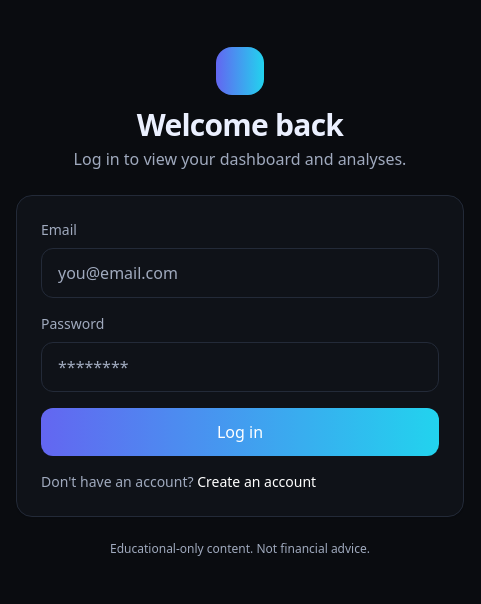
Test: Login page › shows the backend error when login fails
Type "user@example.com" into the field labelled "Email" at [240, 273], box [41,248,439,298]
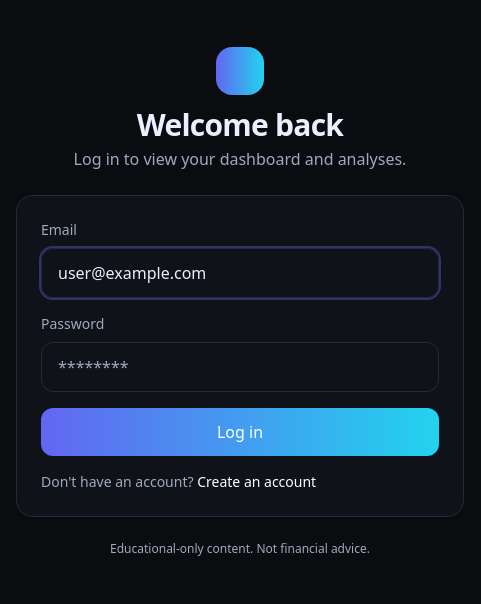
Type "wrong-password" into the password field labelled "Password" at [240, 367], box [41,342,439,392]
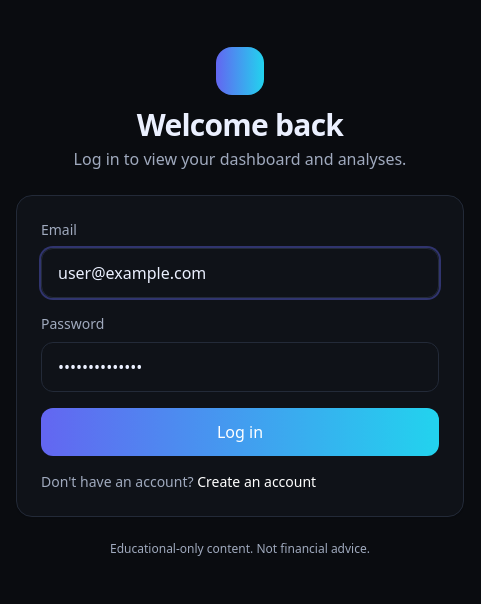
Click the button "Log in" at [240, 432], box [41,408,439,456]
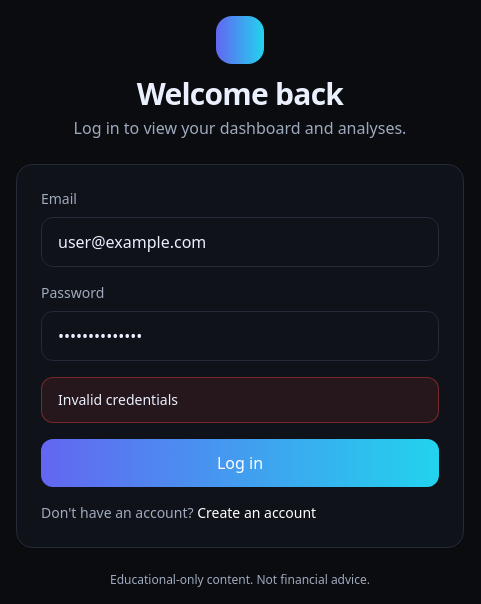
Expected: the text "Invalid credentials" is shown, [58,390,178,409]
